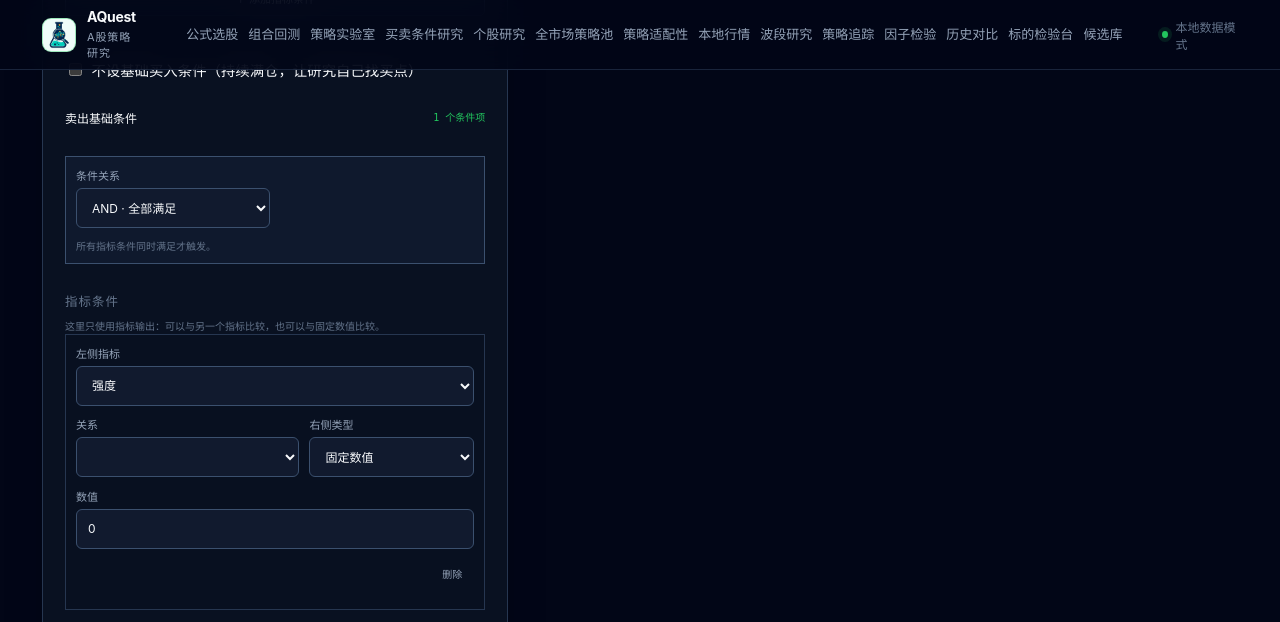
Test: ConditionResearchPage › stores selected candidates in the library so they outlive the history list
(page scrolled)
Submit the form with test id "condition-research-config"
(page scrolled)
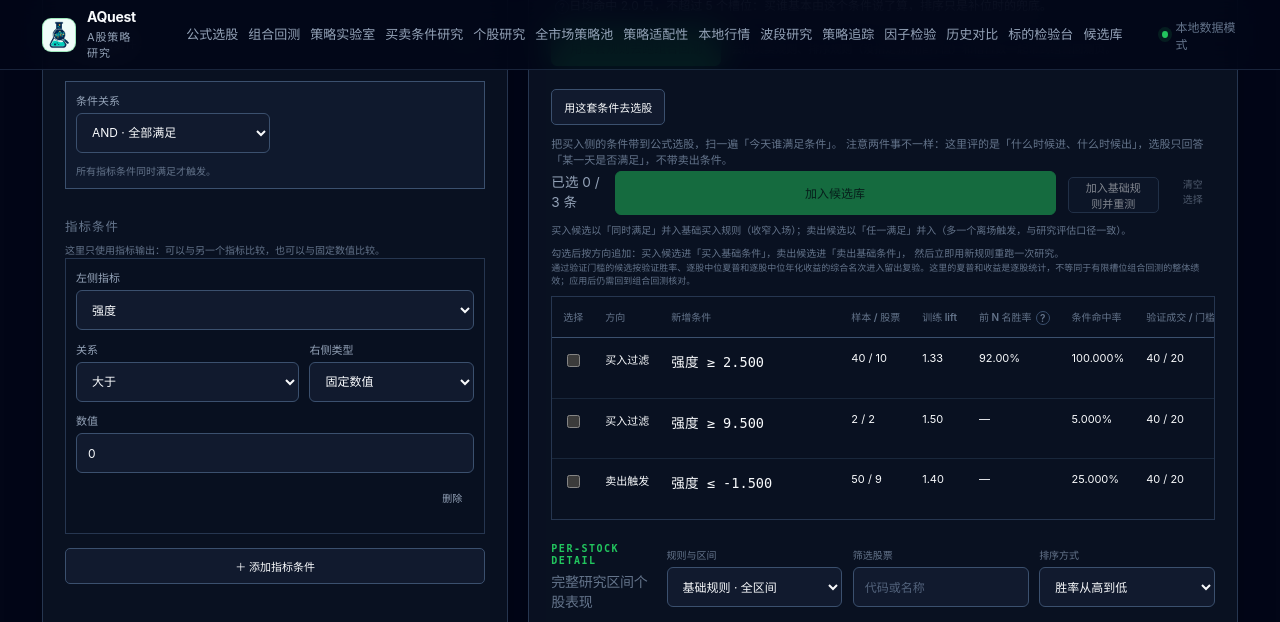
Click the checkbox with test id "select-condition-buy-1" at [574, 360], box left=567, top=354, right=580, bottom=367
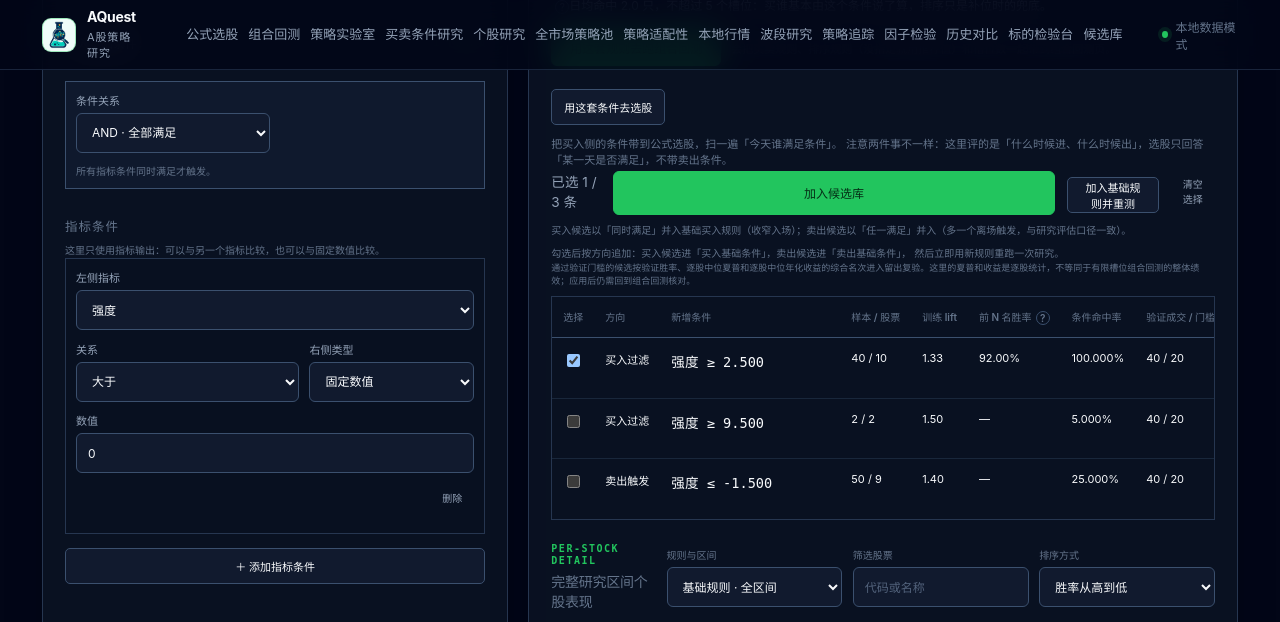
Click the button with test id "save-selected-conditions" at [834, 193], box left=613, top=171, right=1055, bottom=215
(page scrolled)
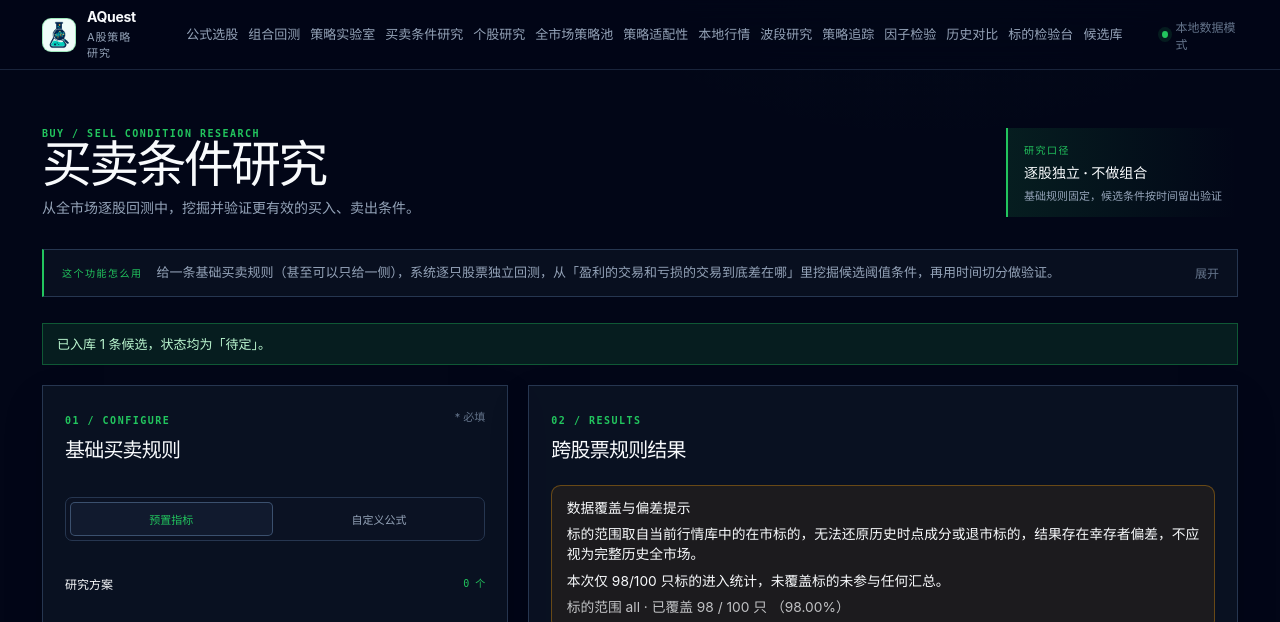
Check: the message with test id "condition-research-message" shows "已入库 1 条", box left=57, top=336, right=271, bottom=352
